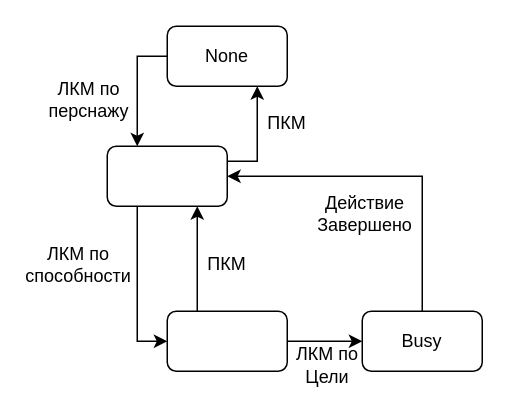
The diagram is 509 pixels wide and 414 high, and some of its shapes have lost their labels. The shapes that lost their labels are listed below. From the top down, each one's centre as x and y in pixels, then its label:
[166,175]: Unit Selected
[226,340]: Action Targeting
